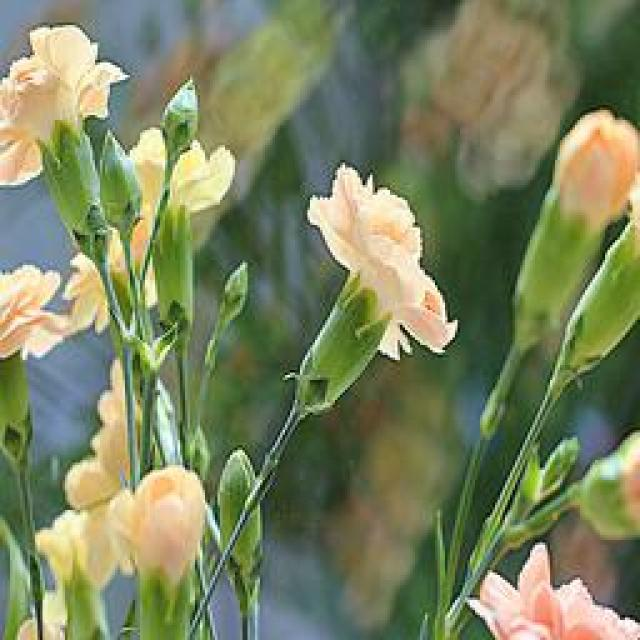carnation: (287, 127, 478, 414)
